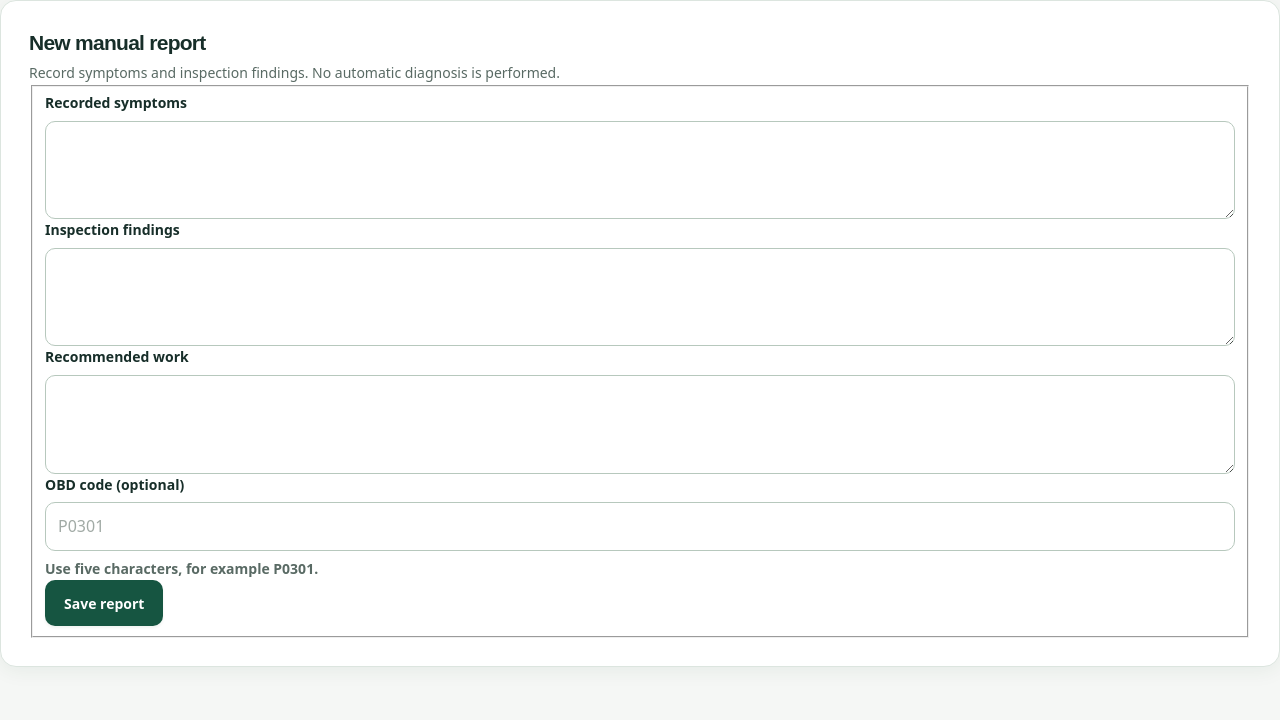
Test case: rejects and focuses an invalid optional OBD code before sending it
Type "Noise" into the text box labelled "Recorded symptoms" at (640, 170), box [45,121,1235,219]
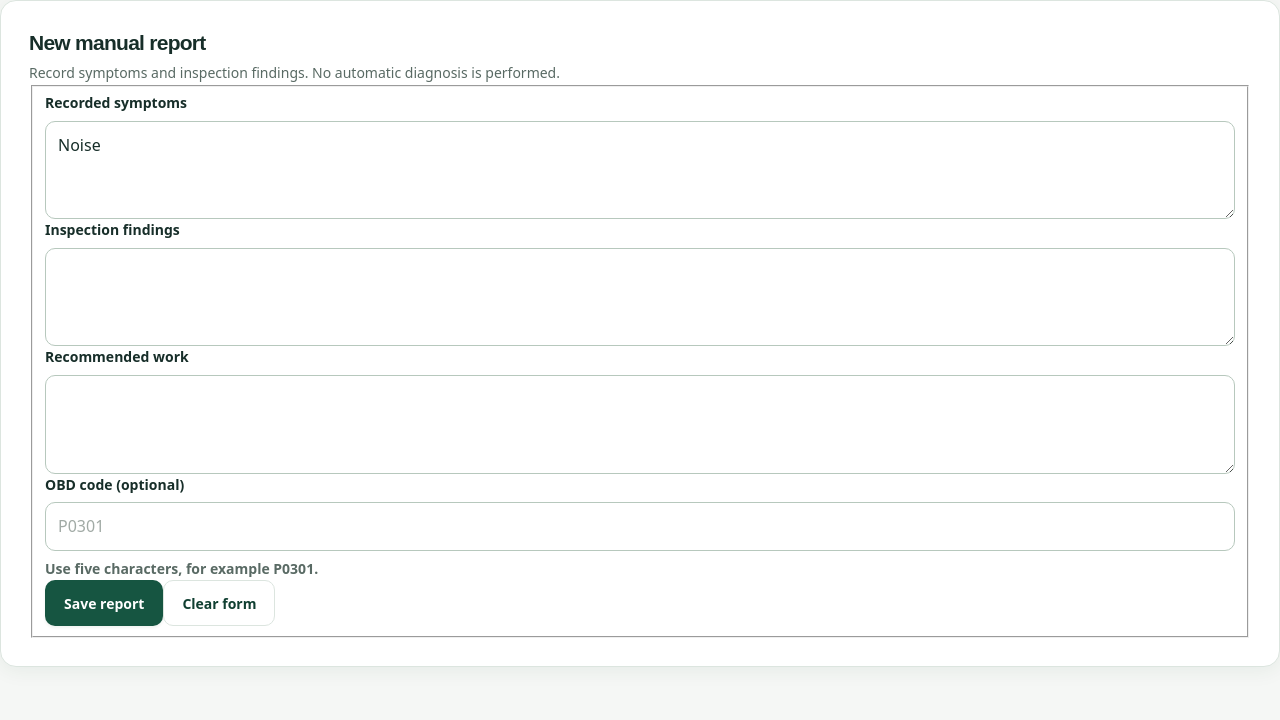
Type "Inspection needed" into the text box labelled "Inspection findings" at (640, 297), box [45,248,1235,346]
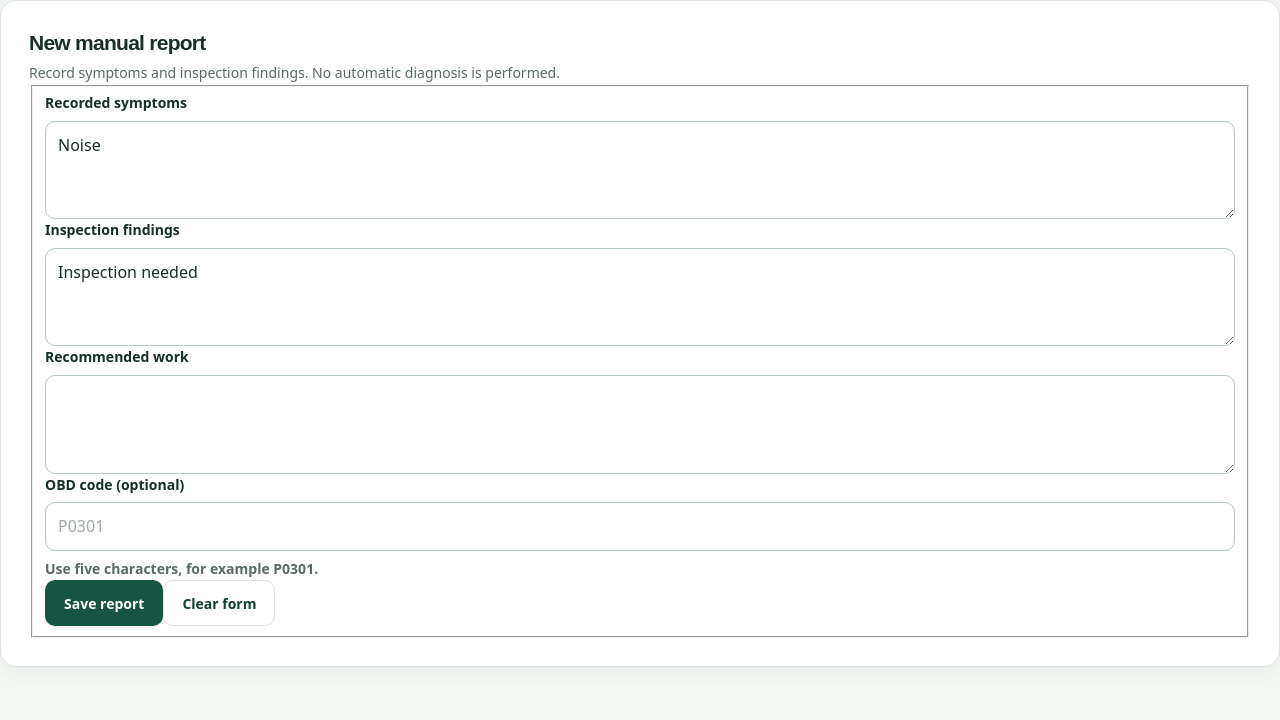
Type "x1234" into the field labelled "OBD code (optional)" at (640, 527), box [45,502,1235,551]
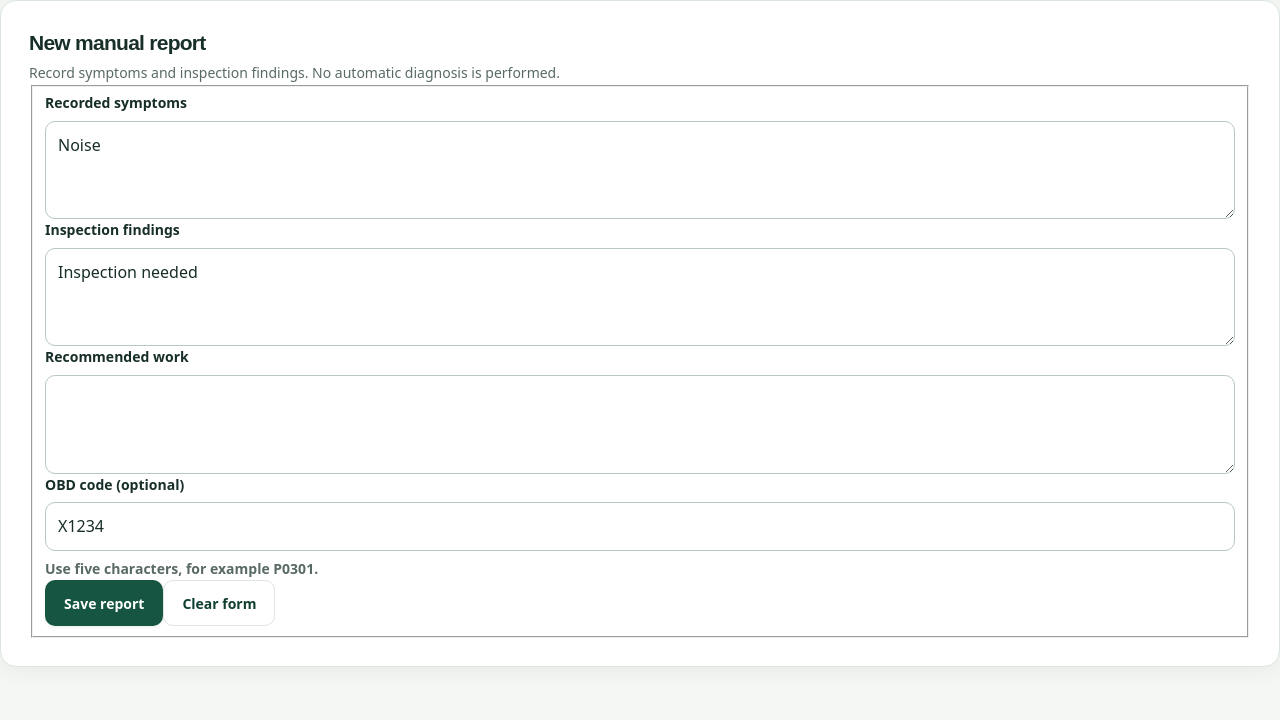
Click the button "Save report" at (104, 603), box [45,580,163,626]
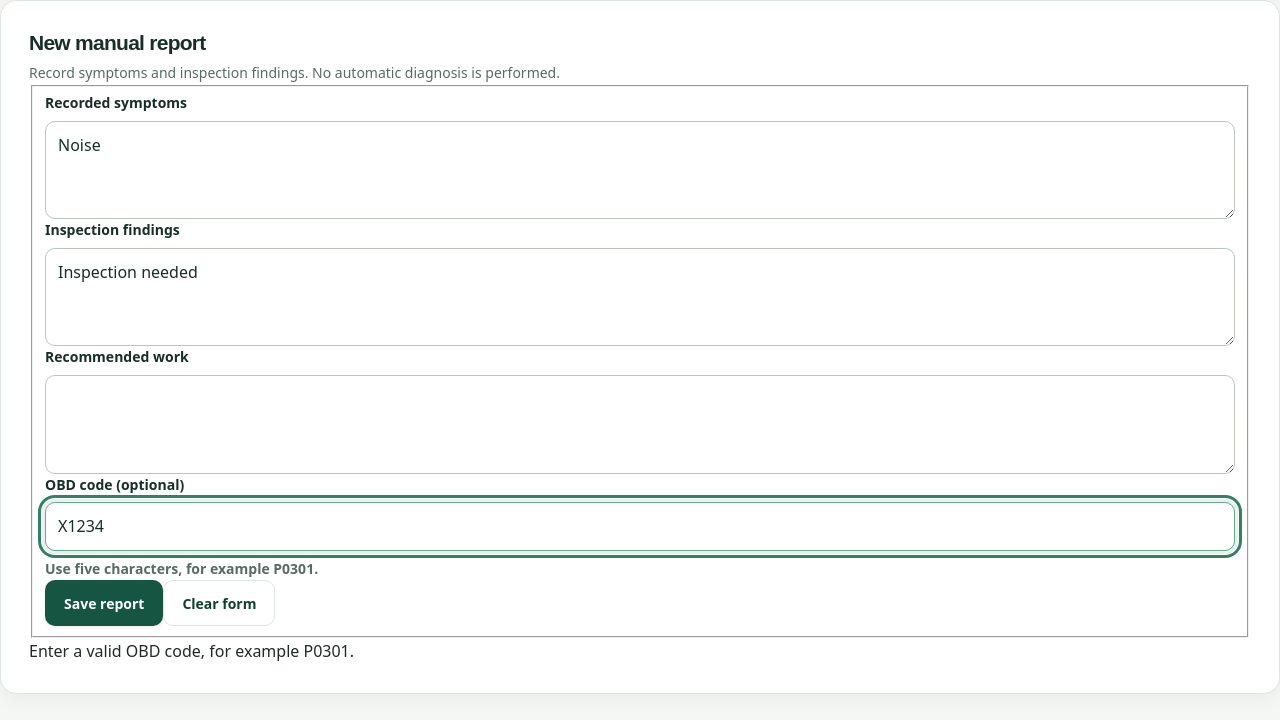
expect the message reads "Enter a valid OBD code, for example P0301.": met, box [29,640,354,662]
